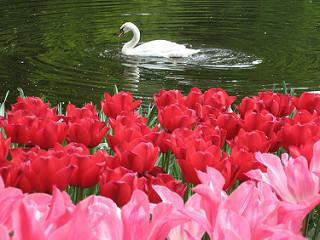tulip: (245, 150, 319, 207), (98, 165, 147, 204), (66, 115, 110, 151), (176, 149, 224, 181), (114, 139, 160, 172), (157, 103, 199, 131), (101, 89, 142, 115)
